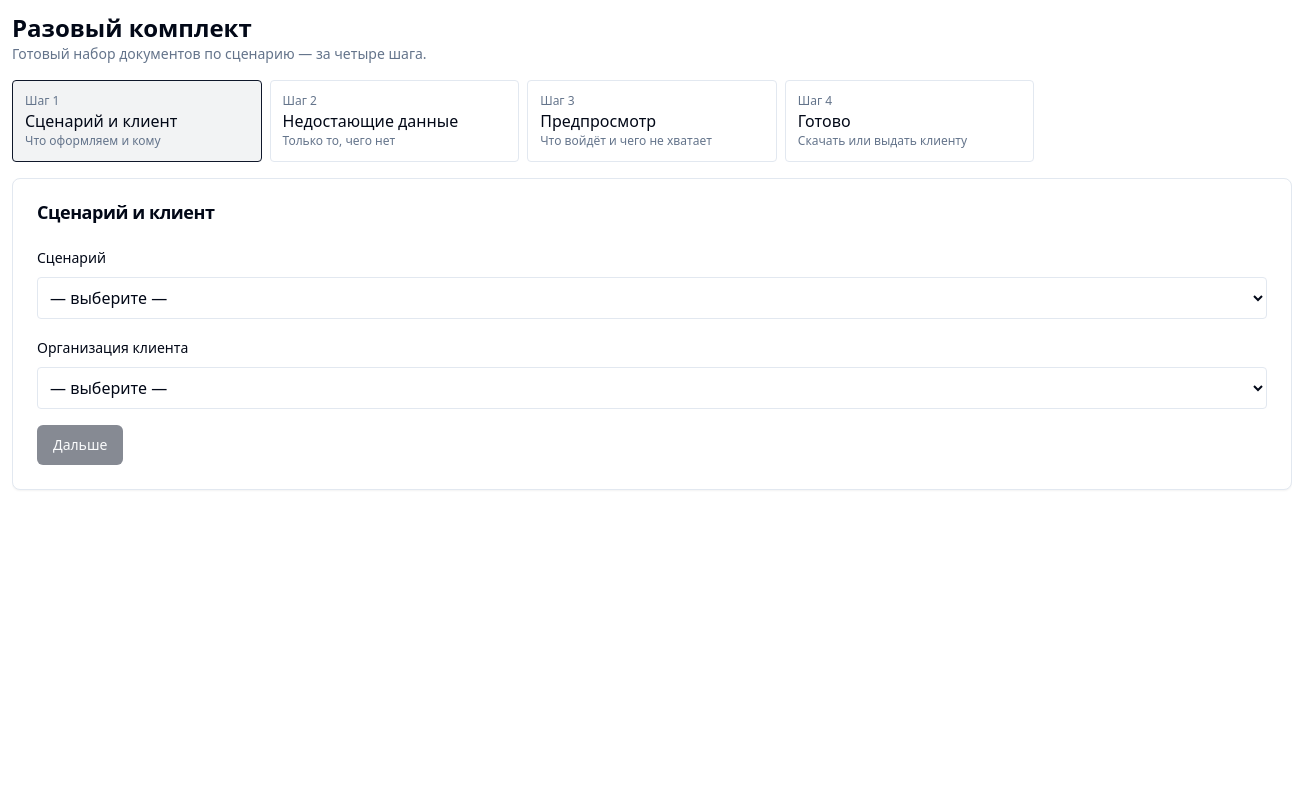
мастер разового комплекта › нажатие «Подставить» переносит подсказку в поле
The image size is (1292, 812).
Select "Охрана труда · Приём нового сотрудника" in the dropdown labelled "Сценарий": (652, 298) [37,277,1267,319]
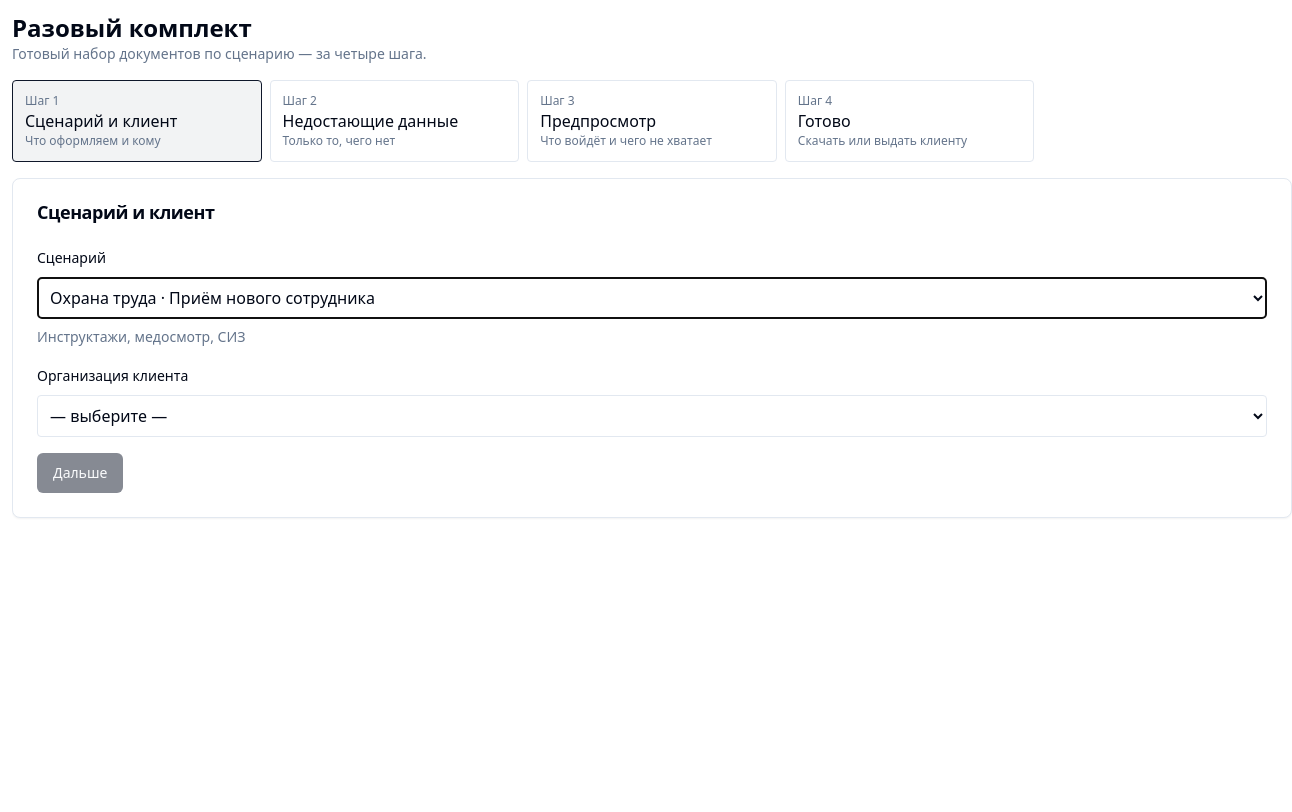
Select "ООО Ромашка" in the dropdown labelled "Организация клиента": (652, 416) [37,395,1267,437]
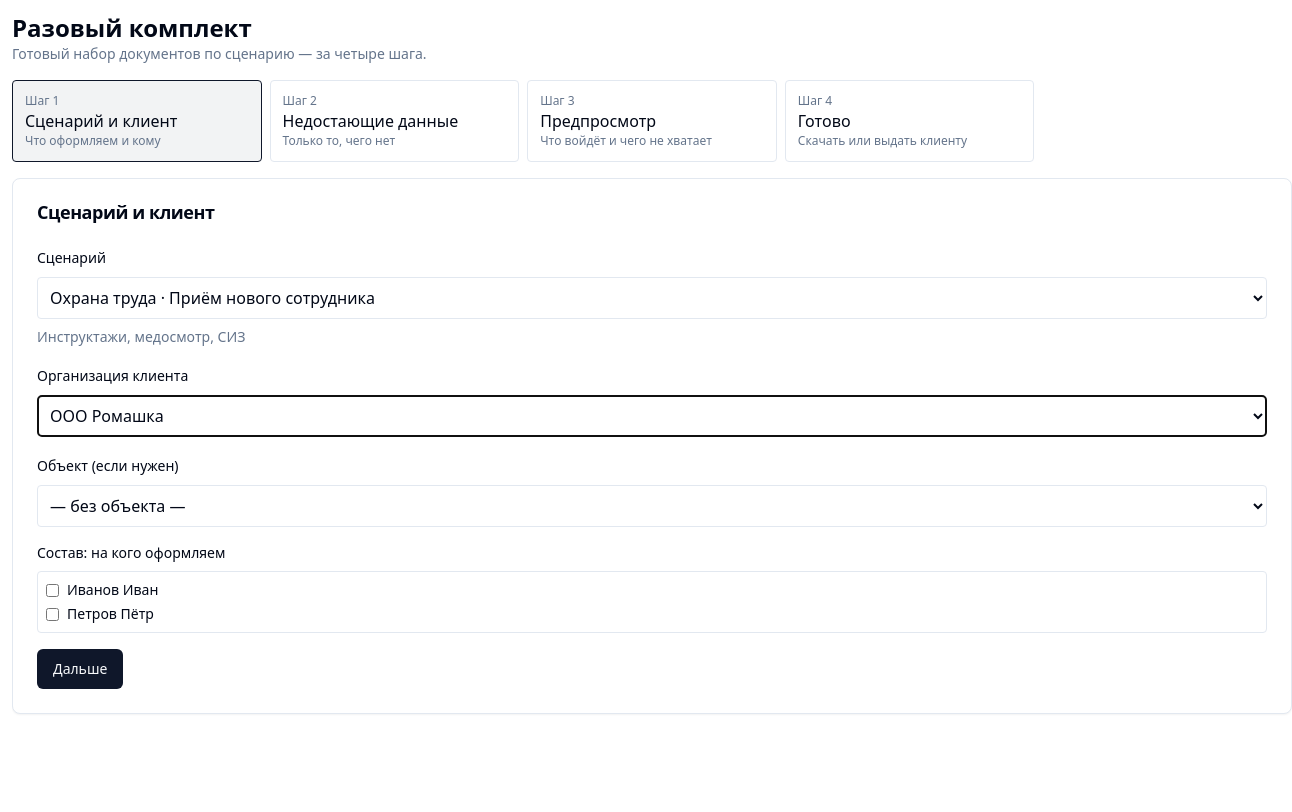
Click the button "Дальше": (80, 669) [37,649,123,689]
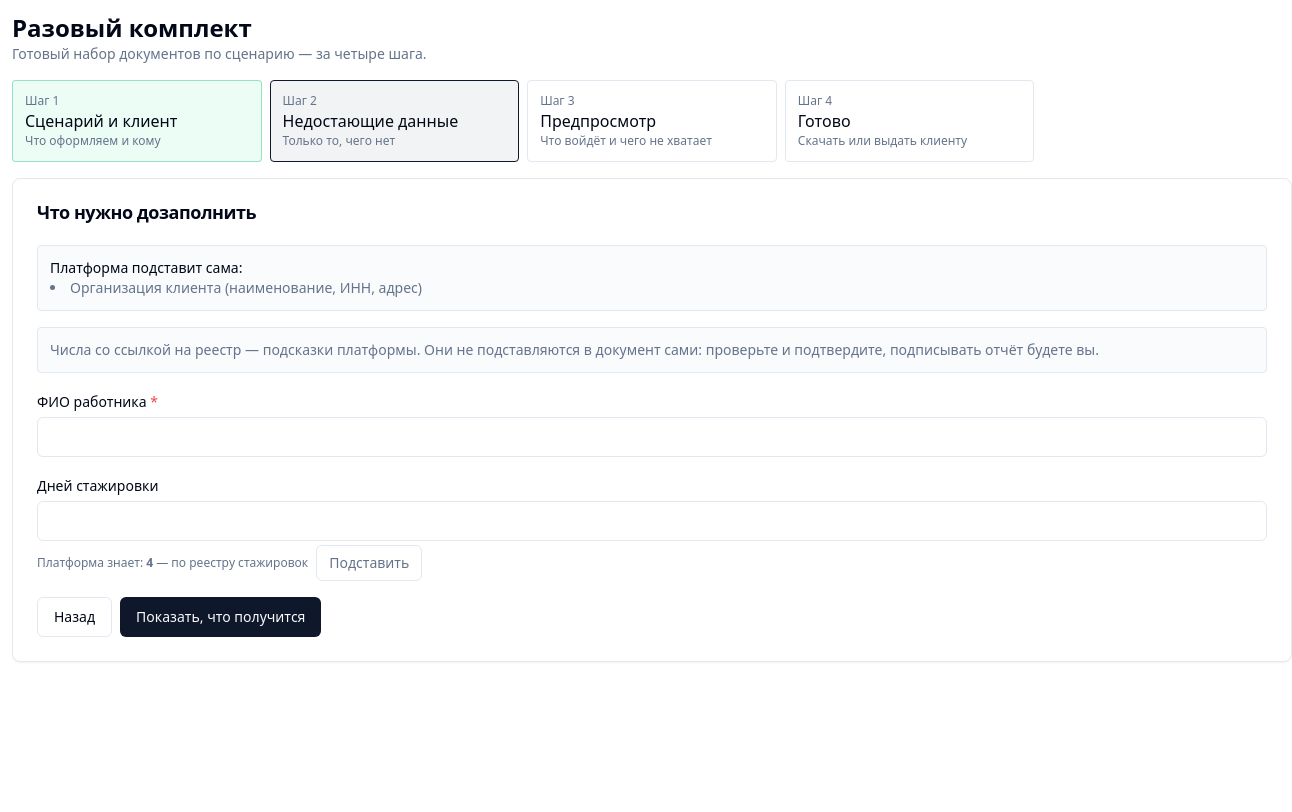
Now the field labelled "Дней стажировки" is empty, box [37,501,1267,541]
Click the button "Подставить": (369, 563) [316,545,422,581]
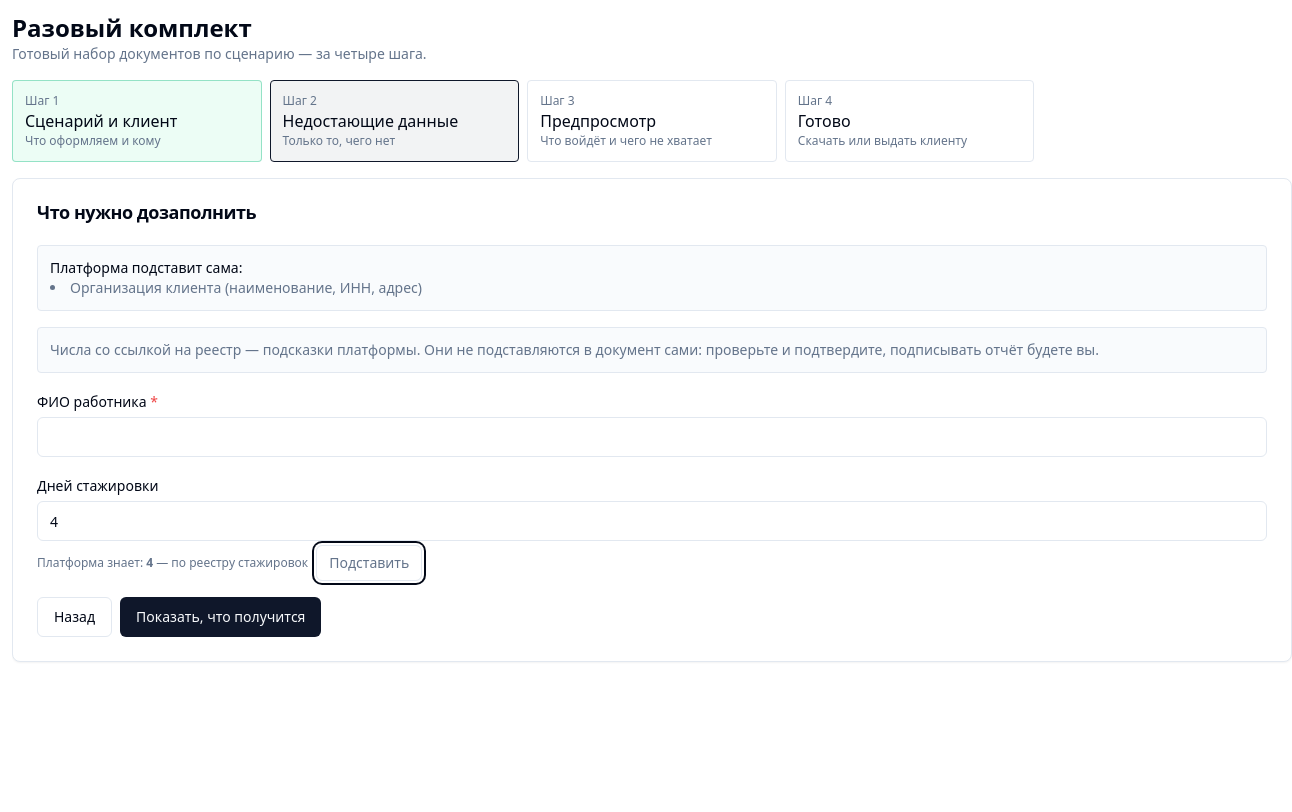
Now the field labelled "Дней стажировки" holds "4", box [37,501,1267,541]
